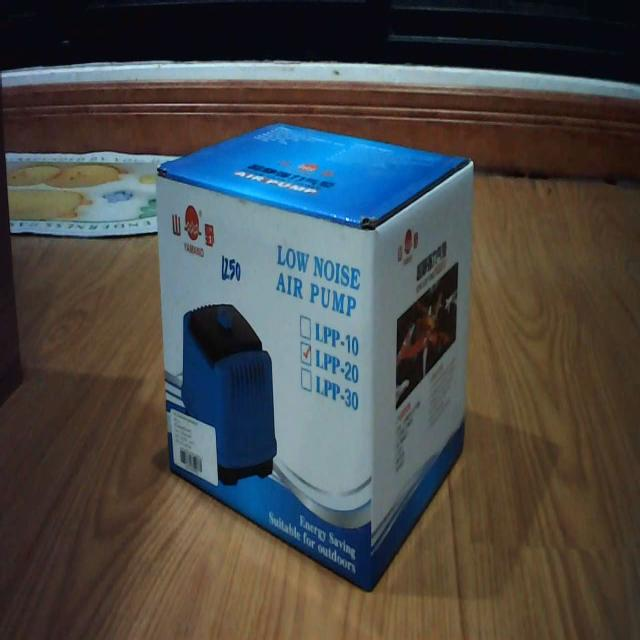YAMANO_LPP_20: (152, 102, 482, 596)
